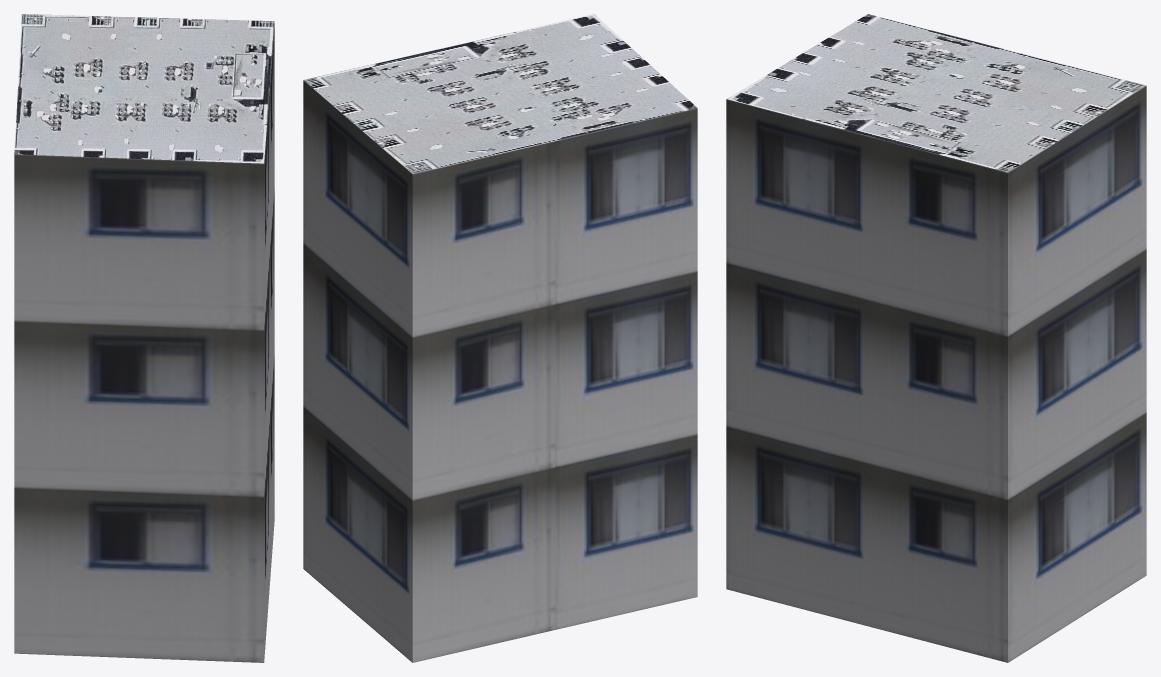
Rendered from ResTex__2357.fbx.
The picture shows the model from 3 angles, left to right: view 1: azimuth 30°, elevation 25°; view 2: azimuth 150°, elevation 25°; view 3: azimuth 270°, elevation 25°; orthographic projection. The views are drawn at different scales.
Parts seen in each view (by area): view 1: CityEngineMaterial_9_m, CityEngineMaterial_4_m; view 2: CityEngineMaterial_9_m, CityEngineMaterial_4_m; view 3: CityEngineMaterial_9_m, CityEngineMaterial_4_m.
Boxes of the visible parts, <box> form: CityEngineMaterial_9_m: <box>14,23,274,662</box>; CityEngineMaterial_4_m: <box>14,14,274,163</box>; CityEngineMaterial_9_m: <box>303,80,697,662</box>; CityEngineMaterial_4_m: <box>303,14,696,173</box>; CityEngineMaterial_9_m: <box>726,85,1146,662</box>; CityEngineMaterial_4_m: <box>727,14,1145,172</box>.
Size of the model in its own units: 6.25 by 9 by 6.99.
Materials: 2 (2 with a texture image).
